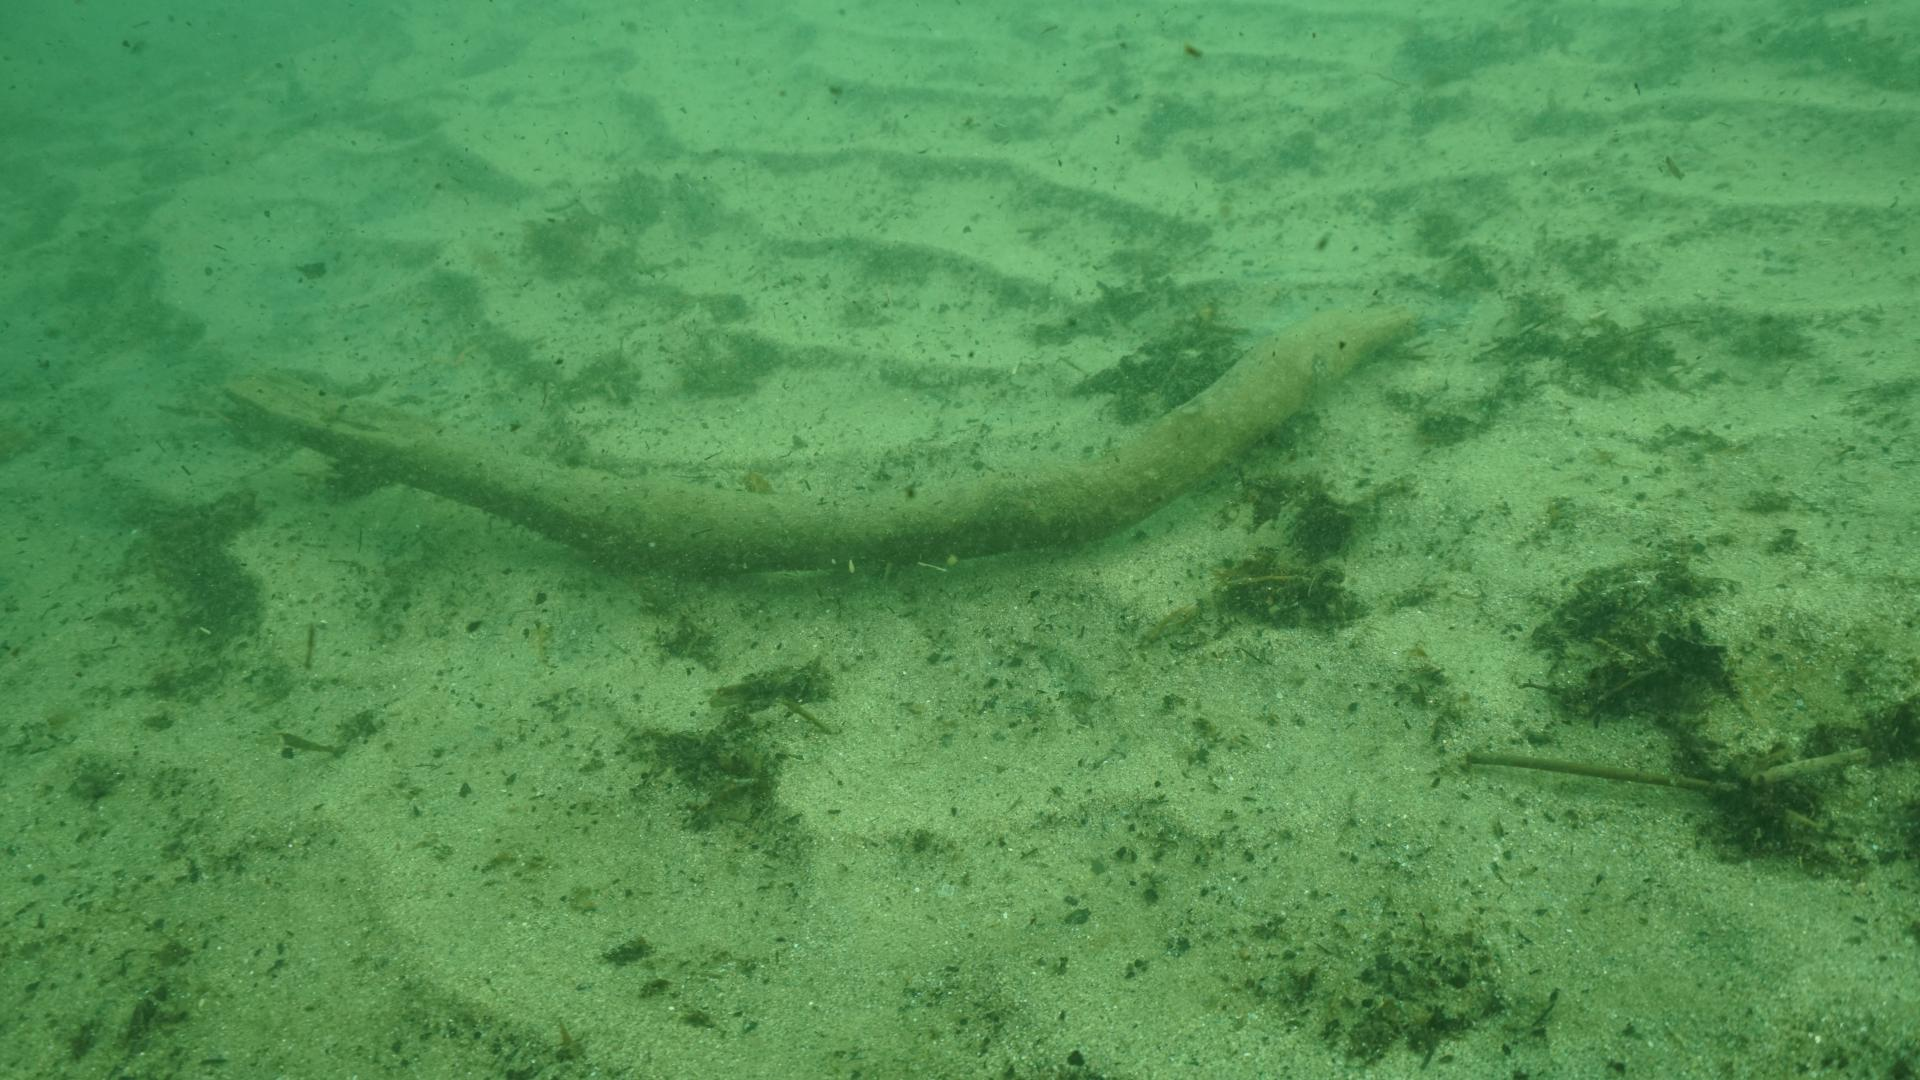wood: (219, 302, 1436, 574)
